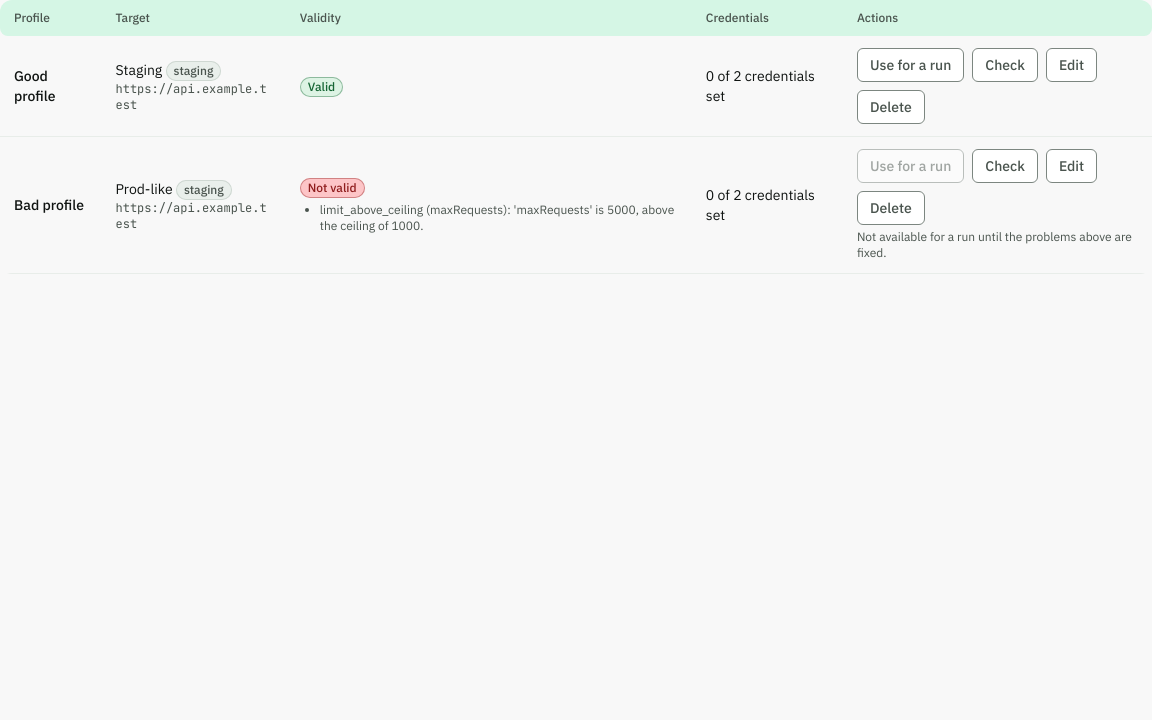
Test: ProfileList (T088, FR-034, FR-040) › explains a profile that is in use when it cannot be deleted
The width and height of the screenshot is (1152, 720).
Click the button with aria-label "Delete Good profile". click: (891, 107)
box: [857, 90, 925, 124]
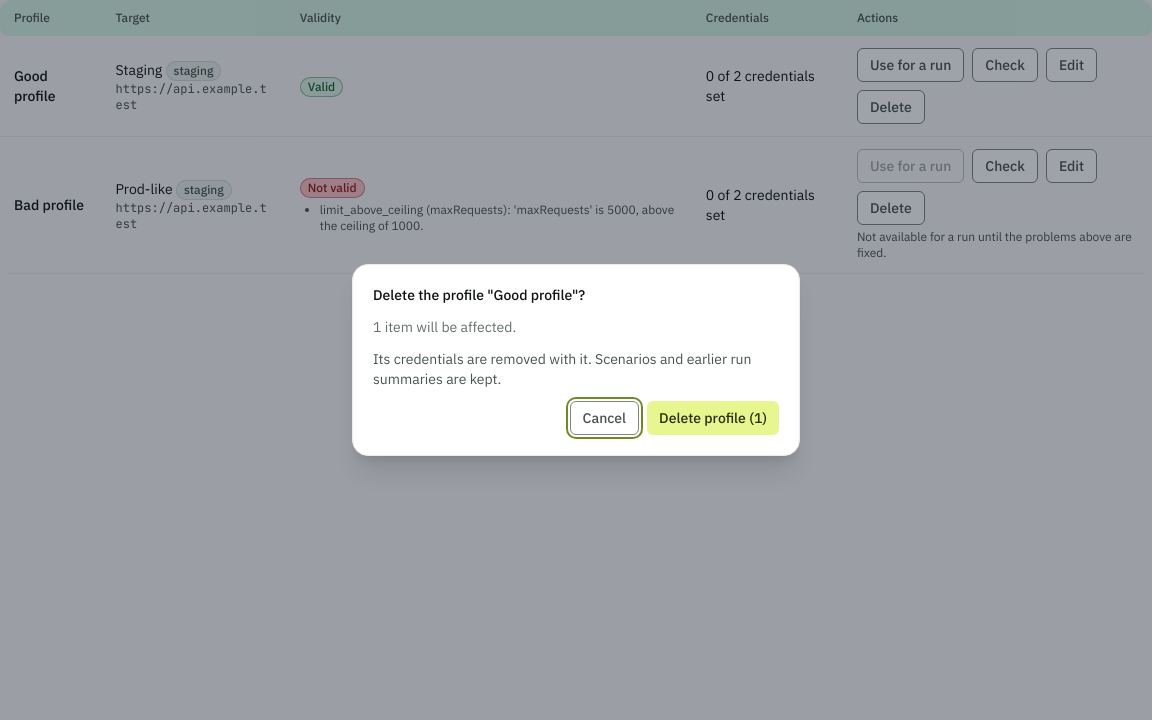
Click the button "Delete profile (1)". click: (713, 418)
box: [647, 401, 779, 435]
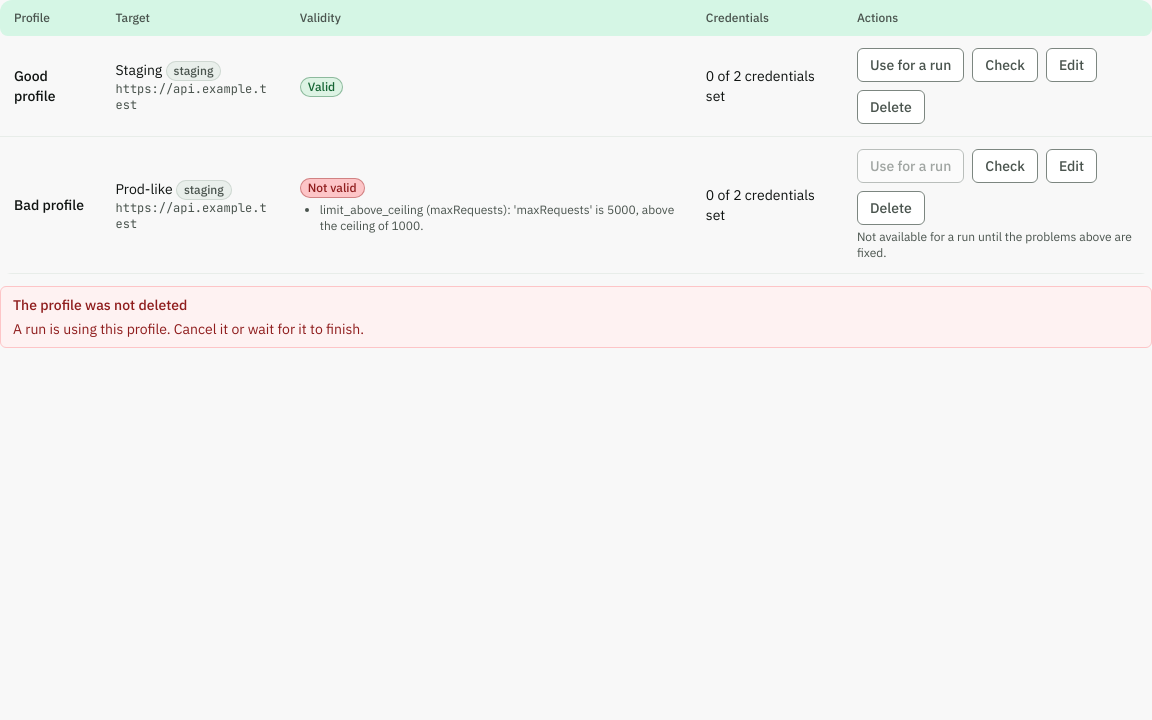
Result: the message with test id "profile-delete-error" shows "A run is using this profile." at [13, 320, 364, 338]
